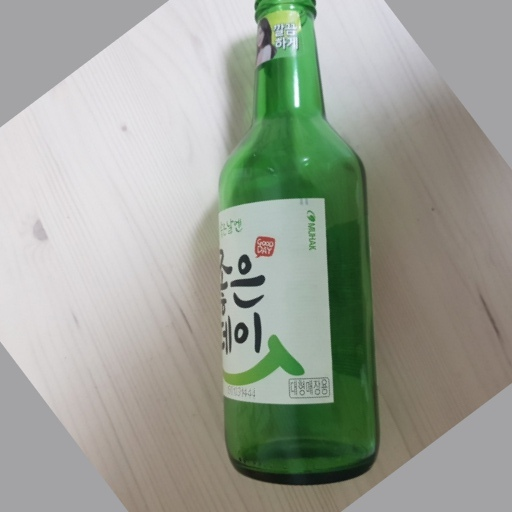Glass_0: (208, 1, 385, 488)
